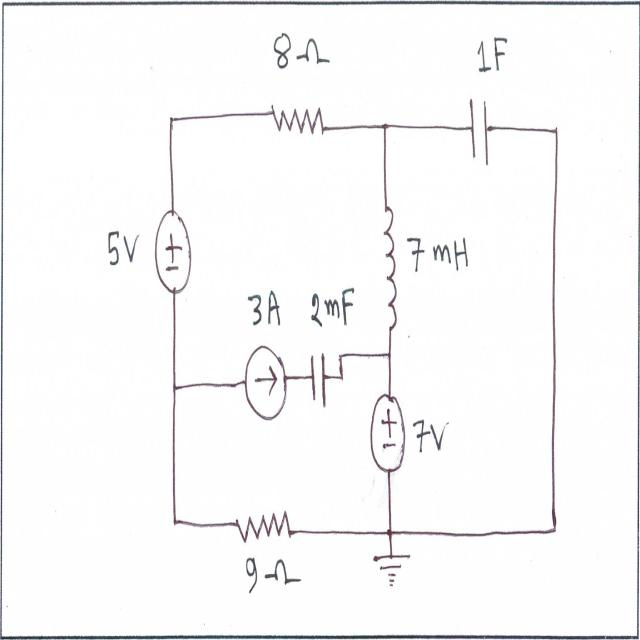capacitor: (468, 84, 492, 179), (308, 347, 329, 412)
current_source: (242, 344, 290, 428)
ground: (372, 548, 412, 592)
inductor: (378, 192, 403, 346)
resistor: (267, 94, 330, 150), (229, 506, 296, 545)
voltage_source: (153, 196, 195, 304), (367, 389, 408, 474)
